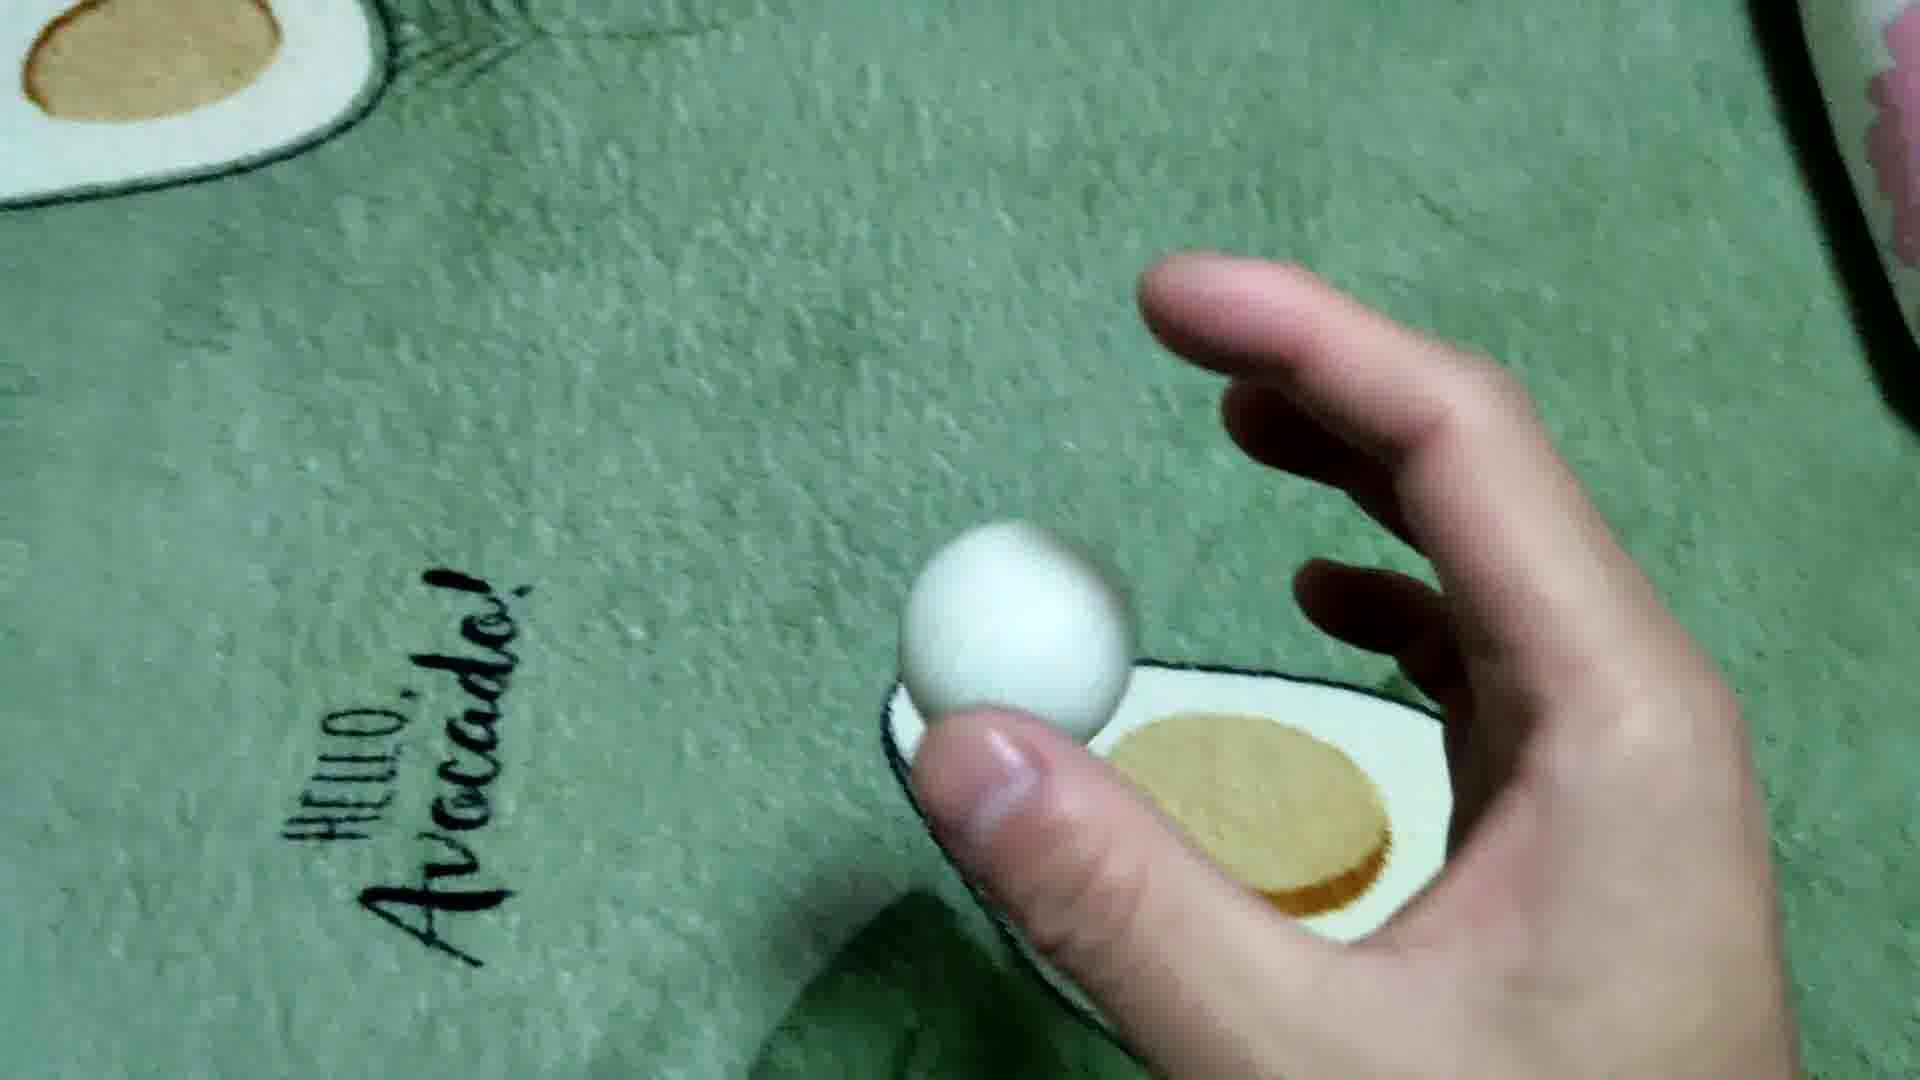Ball: (905, 513, 1138, 769)
